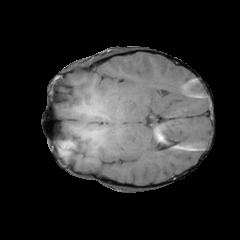glioma: (70, 82, 126, 159)
